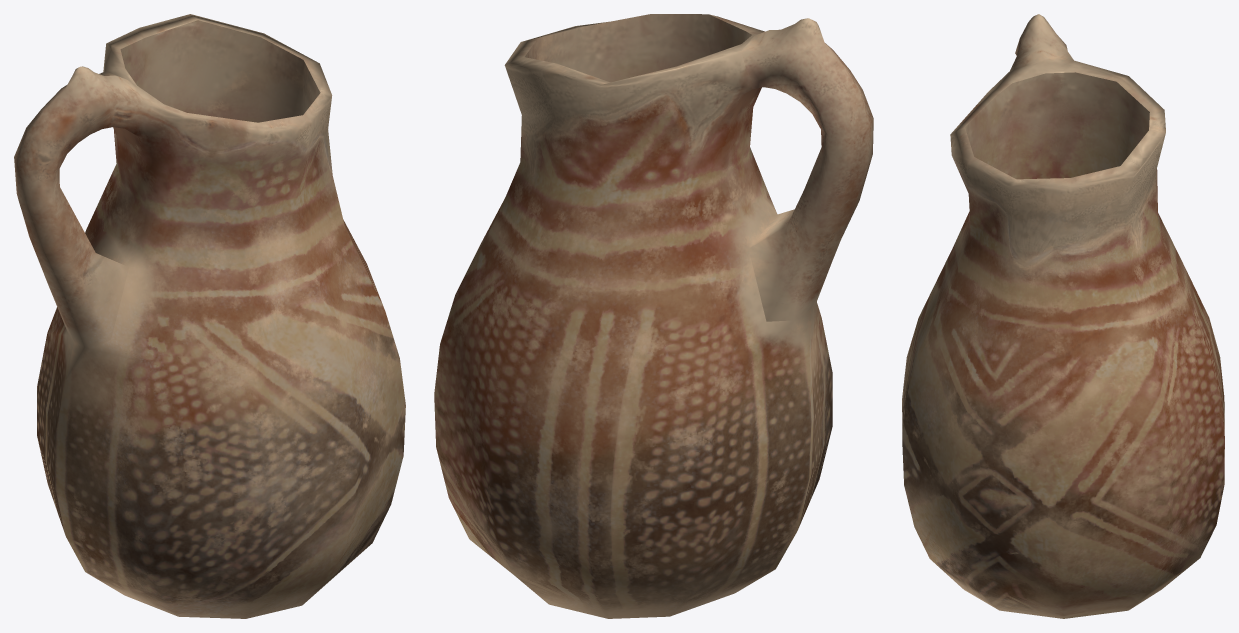
Rendered from ancient_pot.glb.
The picture shows the model from 3 angles, left to right: view 1: azimuth 30°, elevation 25°; view 2: azimuth 150°, elevation 25°; view 3: azimuth 270°, elevation 25°; orthographic projection. The views are drawn at different scales.
Parts seen in each view (by area): view 1: Ancient_Pot; view 2: Ancient_Pot; view 3: Ancient_Pot.
Boxes of the visible parts, left/top/right/bottom form: Ancient_Pot: left=14, top=14, right=405, bottom=618; Ancient_Pot: left=434, top=14, right=873, bottom=618; Ancient_Pot: left=902, top=14, right=1224, bottom=618.
Bounding box in the file's own units: 0.0162 × 0.0228 × 0.0133.
Materials: 1 (1 with a texture image).
